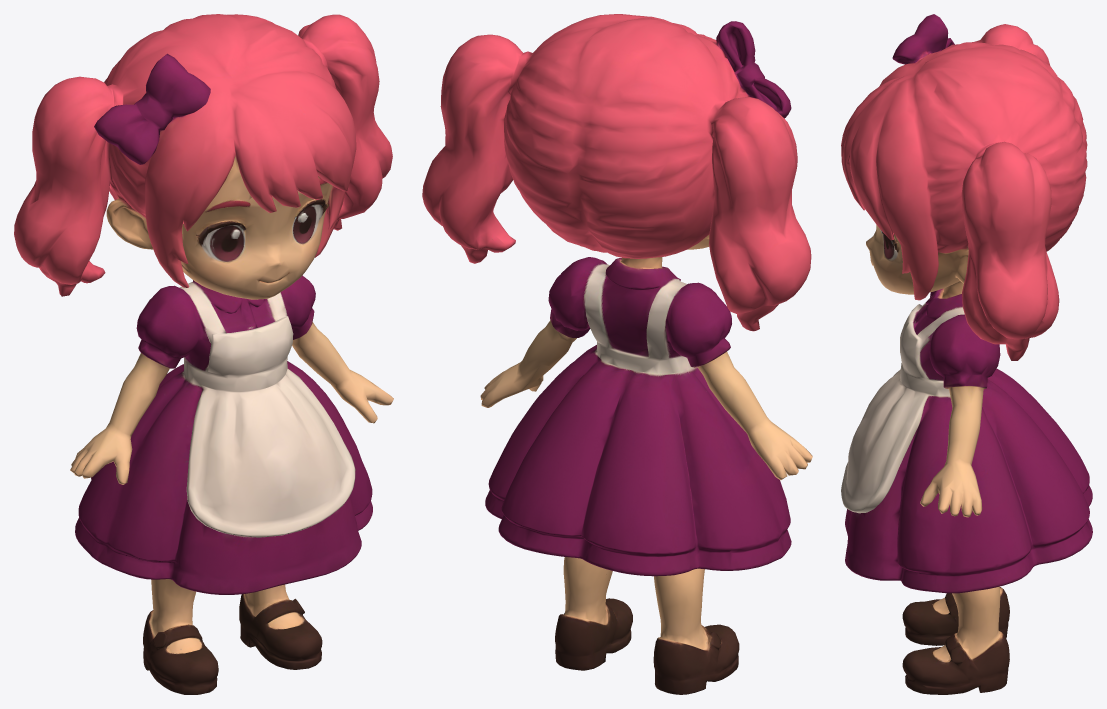
Rendered from SM_Heroine.glb.
The picture shows the model from 3 angles, left to right: view 1: azimuth 30°, elevation 25°; view 2: azimuth 150°, elevation 25°; view 3: azimuth 270°, elevation 25°; orthographic projection. The views are drawn at different scales.
Parts seen in each view (by area): view 1: SM_Heroine; view 2: SM_Heroine; view 3: SM_Heroine.
Part boxes in pixels (<box>): SM_Heroine: <box>14,14,393,694</box>; SM_Heroine: <box>422,14,812,694</box>; SM_Heroine: <box>841,14,1092,694</box>.
Size of the model in its own units: 0.5913 by 0.9798 by 0.3667.
1 material, 1 textured.
